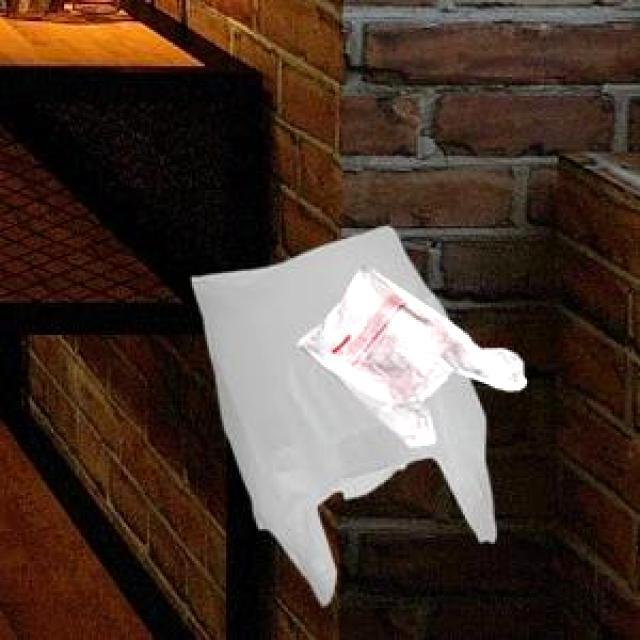Plastic_Bag: (189, 223, 494, 603), (293, 264, 524, 444)
